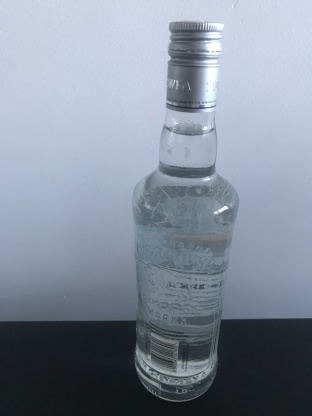nakretka: (162, 16, 227, 116)
